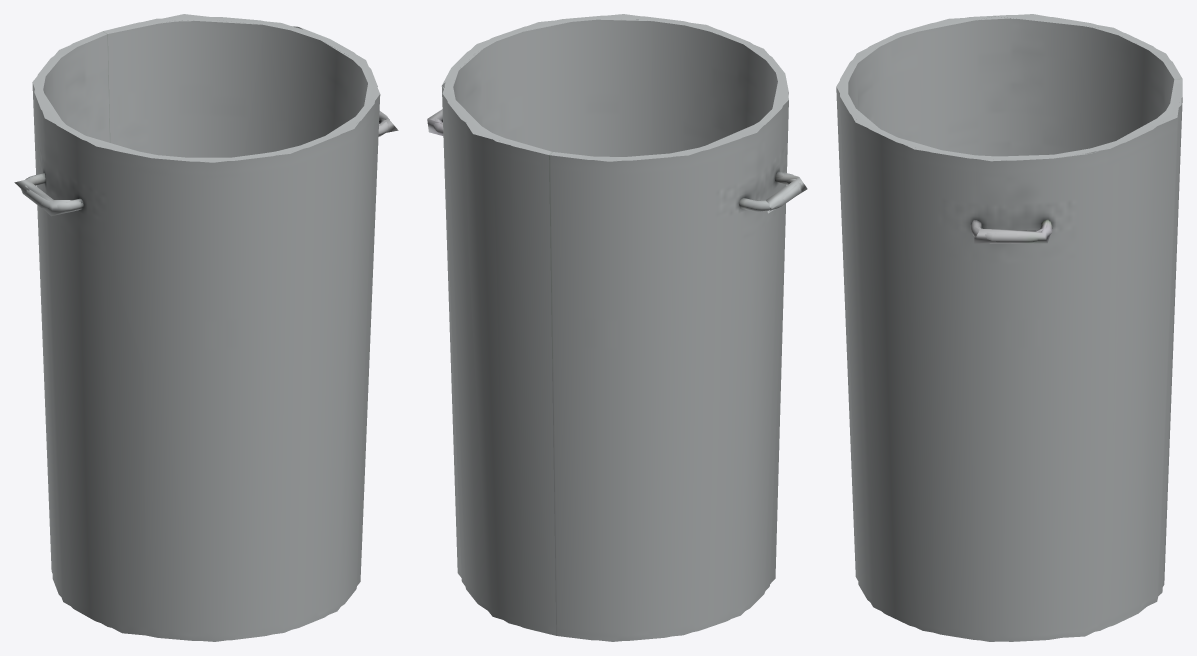
Rendered from street-trash.glb.
The picture shows the model from 3 angles, left to right: view 1: azimuth 30°, elevation 25°; view 2: azimuth 150°, elevation 25°; view 3: azimuth 270°, elevation 25°; orthographic projection.
Visible parts, largest first — view 1: SM_CityProps_GarbareCans_B_LOD0; view 2: SM_CityProps_GarbareCans_B_LOD0; view 3: SM_CityProps_GarbareCans_B_LOD0.
Boxes of the visible parts, left/top/right/bottom form: SM_CityProps_GarbareCans_B_LOD0: left=14, top=14, right=398, bottom=641; SM_CityProps_GarbareCans_B_LOD0: left=427, top=14, right=807, bottom=641; SM_CityProps_GarbareCans_B_LOD0: left=836, top=14, right=1182, bottom=641.
Size of the model in its own units: 0.7879 by 1.05 by 0.6738.
1 material, 1 textured.
